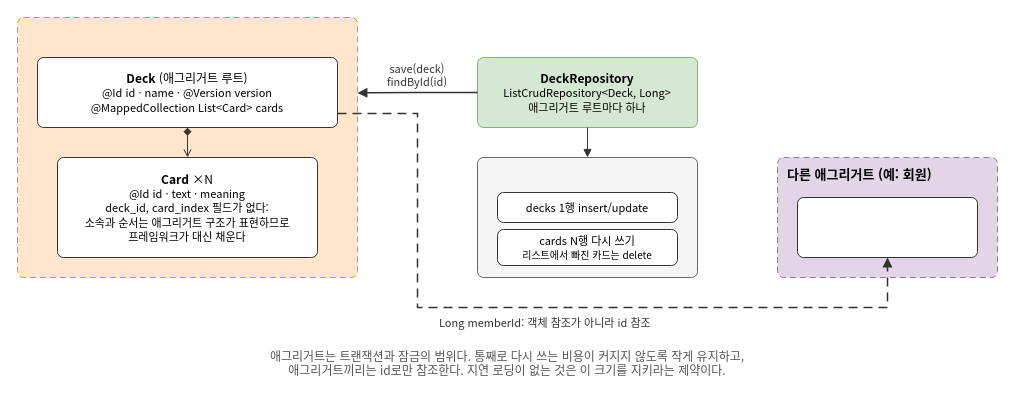
The diagram is 1015 pixels wide and 404 high, and some of its shapes have lost their labels. Each missing label, with the box of its shape:
Member MemberRepository로 따로 조회: (796, 196, 978, 258)
덱 애그리거트: 함께 저장되고 함께 지워지는 단위: (16, 16, 358, 278)
저장 시점의 상태를 그대로 반영: (476, 156, 698, 278)
